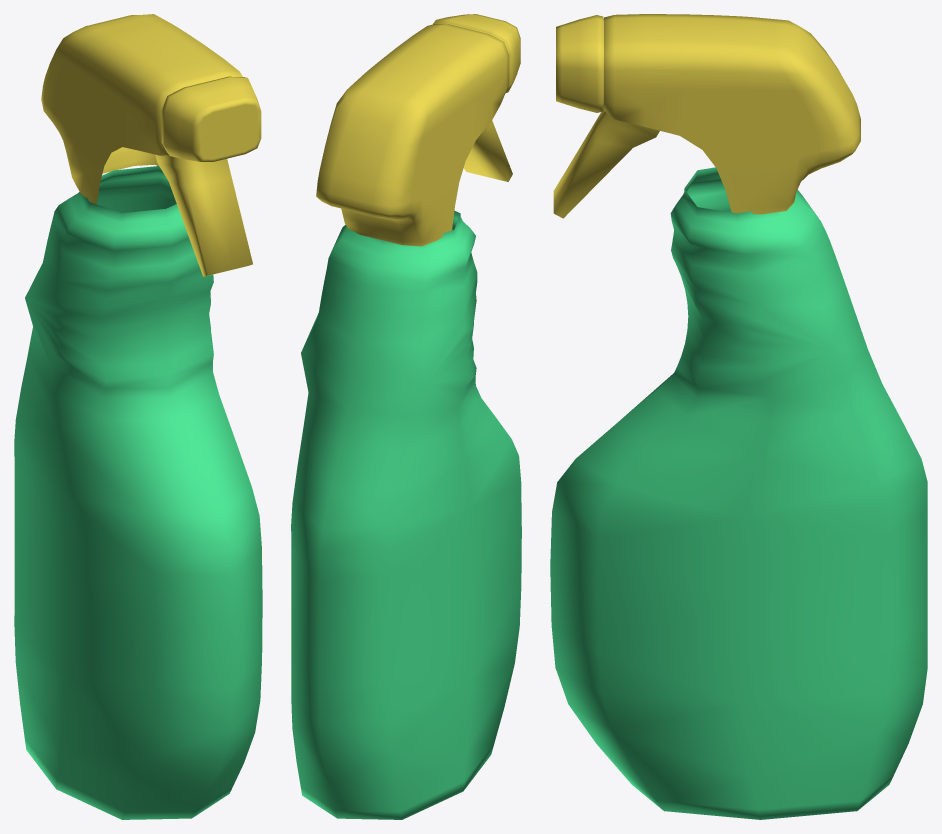
Rendered from spray2.glb.
3 views of the same model, side by side, from view 1: azimuth 30°, elevation 25°; view 2: azimuth 150°, elevation 25°; view 3: azimuth 270°, elevation 25° (orthographic). The views are drawn at different scales.
Parts seen in each view (by area): view 1: Cube, Plane, Plane.001; view 2: Cube, Plane, Plane.001; view 3: Cube, Plane, Plane.001.
Boxes of the visible parts, x1,y1,x2,y2 form: Cube: (14, 166, 262, 819); Plane: (41, 14, 261, 204); Plane.001: (155, 154, 252, 276); Cube: (291, 210, 521, 819); Plane: (316, 14, 520, 246); Plane.001: (463, 120, 512, 181); Cube: (550, 167, 927, 819); Plane: (556, 14, 860, 214); Plane.001: (553, 109, 659, 218).
Bounding box in the file's own units: 2.05 × 10.22 × 4.62.
